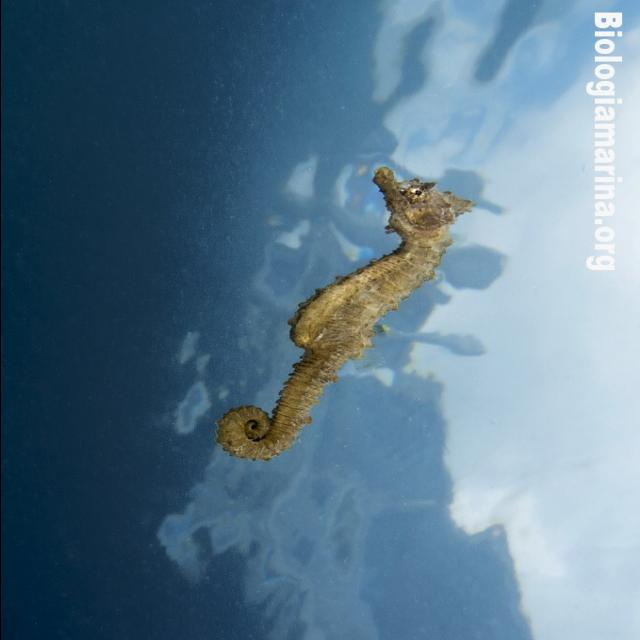Hippo: (366, 157, 483, 235)
